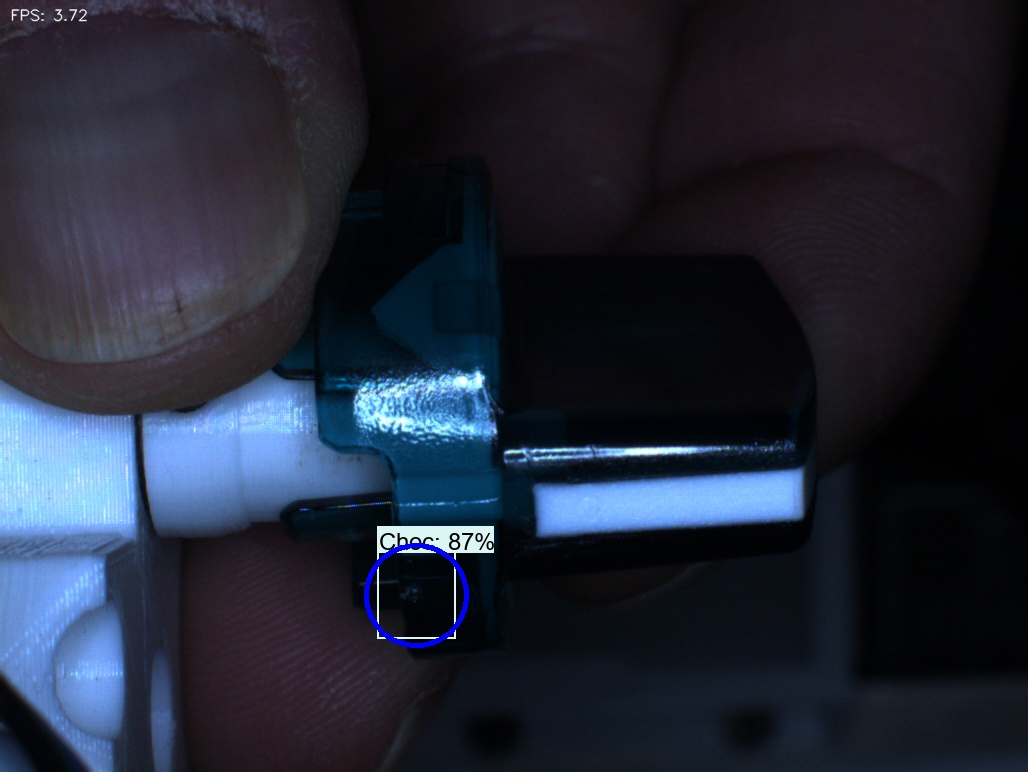DentOk: (349, 273, 413, 360)
